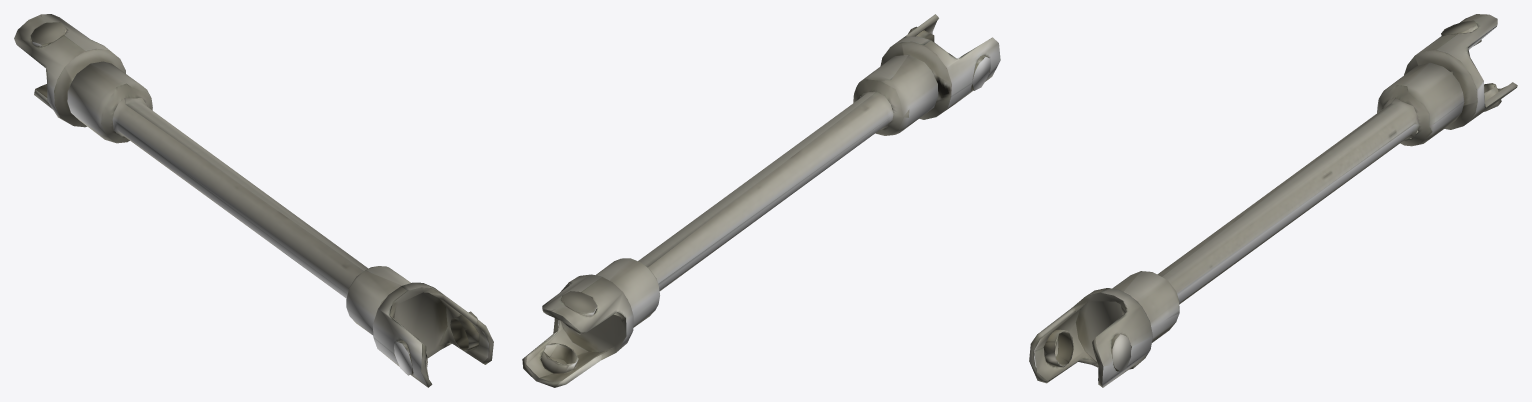
The picture shows the model from 3 angles, left to right: view 1: azimuth 30°, elevation 25°; view 2: azimuth 150°, elevation 25°; view 3: azimuth 330°, elevation 25°; orthographic projection. The views are drawn at different scales.
Visible parts, largest first — view 1: Eje.002_Mesh.013; view 2: Eje.002_Mesh.013; view 3: Eje.002_Mesh.013.
Boxes of the visible parts, left/top/right/bottom form: Eje.002_Mesh.013: left=14, top=14, right=493, bottom=387; Eje.002_Mesh.013: left=522, top=14, right=1000, bottom=387; Eje.002_Mesh.013: left=1029, top=14, right=1517, bottom=387.
Size of the model in its own units: 0.0632 by 0.0651 by 0.5911.
1 material, 1 textured.
